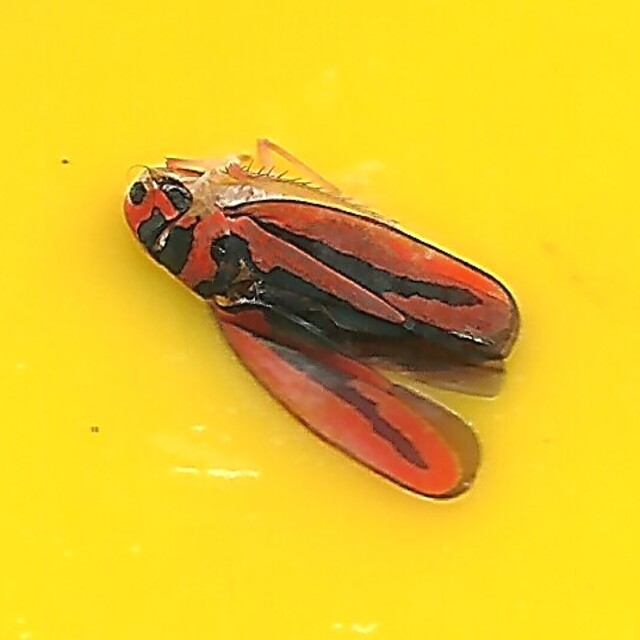Hemiptera: (119, 135, 521, 505)
